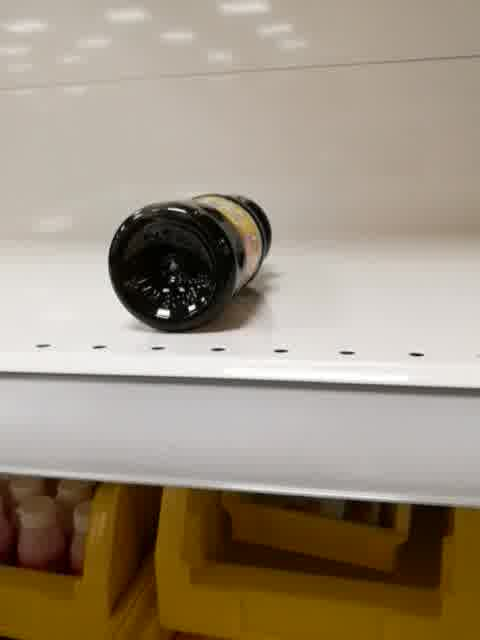cookingoil: (103, 189, 277, 335)
